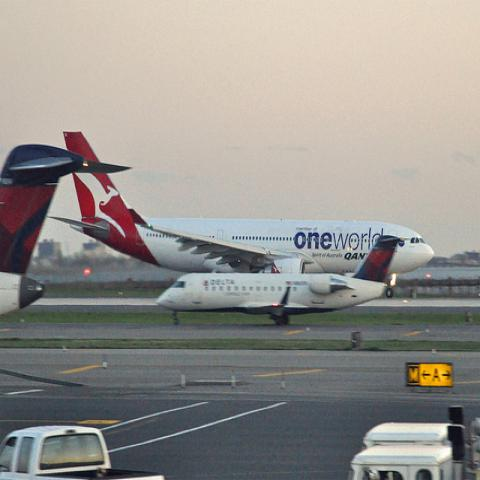truck: (0, 423, 166, 478), (352, 404, 478, 474)
